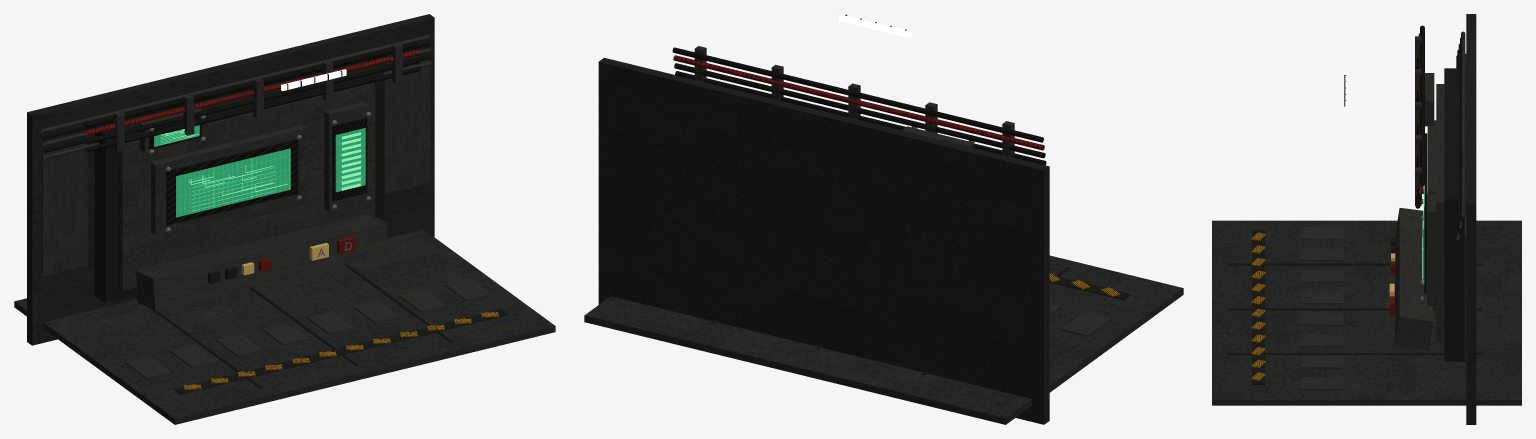
The model's file is GLB_02_control_room_cctv_terminal.glb.
The picture shows the model from 3 angles, left to right: view 1: azimuth 30°, elevation 25°; view 2: azimuth 150°, elevation 25°; view 3: azimuth 270°, elevation 25°; orthographic projection. The views are drawn at different scales.
Parts seen in each view (by area): view 1: control_room_oily_diamond_floor_base, control_room_rear_blackened_wall, control_room_cctv_heavy_outer_panel, control_room_sloped_button_console, control_room_terminal_wall_recess, control_room_rear_panel_0, control_room_rear_panel_5, control_room_single_large_cctv_screen_green_crt_glass, control_room_single_large_cctv_screen_thick_chipped_frame, control_room_single_large_cctv_screen_black_rubber_gasket, control_room_right_vertical_status_screen_thick_chipped_fram, control_room_black_recessed_hazard_strip (+17 smaller); view 2: control_room_rear_blackened_wall, control_room_oily_diamond_floor_base, control_room_red_black_pipe_run_0, control_room_red_black_pipe_run_1, control_room_red_black_pipe_run_2, control_room_red_black_pipe_run_3, control_room_raised_floor_panel_0, control_room_upper_strip_light_warm_cage; view 3: control_room_oily_diamond_floor_base, control_room_terminal_wall_recess, control_room_rear_blackened_wall, control_room_sloped_button_console, control_room_cctv_heavy_outer_panel, control_room_black_recessed_hazard_strip, control_room_right_vertical_status_screen_thick_chipped_fram, control_room_overhead_pipe_0, control_room_red_black_pipe_run_0, control_room_single_large_cctv_screen_thick_chipped_frame, control_room_raised_floor_panel_1, control_room_raised_floor_panel_2 (+11 smaller).
Boxes of the visible parts, box(x1,y1,x2,y2) form: control_room_oily_diamond_floor_base: box(14, 229, 555, 424); control_room_rear_blackened_wall: box(27, 14, 434, 345); control_room_cctv_heavy_outer_panel: box(118, 82, 375, 290); control_room_sloped_button_console: box(135, 214, 388, 310); control_room_terminal_wall_recess: box(94, 59, 383, 303); control_room_rear_panel_0: box(41, 143, 87, 276); control_room_rear_panel_5: box(384, 59, 429, 193); control_room_single_large_cctv_screen_green_crt_glass: box(176, 148, 290, 217); control_room_single_large_cctv_screen_thick_chipped_frame: box(151, 125, 307, 235); control_room_single_large_cctv_screen_black_rubber_gasket: box(166, 139, 298, 225); control_room_right_vertical_status_screen_thick_chipped_fram: box(324, 101, 368, 212); control_room_black_recessed_hazard_strip: box(174, 309, 508, 394); control_room_rear_blackened_wall: box(598, 57, 1049, 424); control_room_oily_diamond_floor_base: box(584, 255, 1183, 424); control_room_red_black_pipe_run_0: box(672, 47, 1043, 142); control_room_red_black_pipe_run_1: box(673, 55, 1044, 150); control_room_red_black_pipe_run_2: box(674, 63, 1045, 158); control_room_red_black_pipe_run_3: box(675, 71, 1046, 165); control_room_raised_floor_panel_0: box(1060, 311, 1112, 336); control_room_upper_strip_light_warm_cage: box(839, 14, 911, 38); control_room_oily_diamond_floor_base: box(1212, 220, 1521, 405); control_room_terminal_wall_recess: box(1444, 68, 1465, 361); control_room_rear_blackened_wall: box(1466, 14, 1476, 424); control_room_sloped_button_console: box(1395, 208, 1433, 350); control_room_cctv_heavy_outer_panel: box(1436, 84, 1444, 343); control_room_black_recessed_hazard_strip: box(1252, 230, 1264, 384); control_room_right_vertical_status_screen_thick_chipped_fram: box(1427, 193, 1436, 306); control_room_overhead_pipe_0: box(1461, 31, 1465, 216); control_room_red_black_pipe_run_0: box(1420, 25, 1424, 186); control_room_single_large_cctv_screen_thick_chipped_frame: box(1427, 120, 1436, 193); control_room_raised_floor_panel_1: box(1301, 248, 1343, 261); control_room_raised_floor_panel_2: box(1301, 269, 1343, 282).
Bounding box in the file's own units: 5.5 × 3.4 × 3.8.
Materials: 12 (8 with a texture image).
